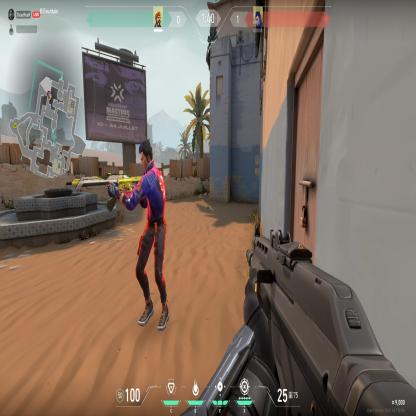enemy: (130, 135, 174, 338)
